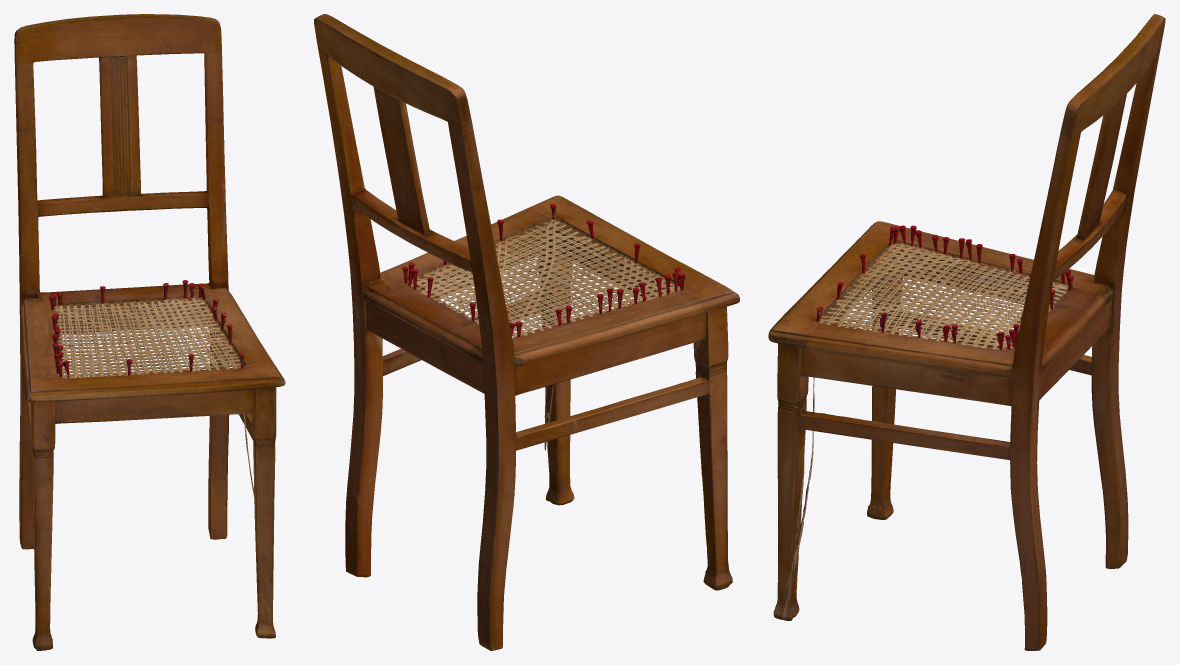
File: 25DD9ABE-C45F-5D49-B339-6F5CD4FFCAC8_2k.glb
3 views of the same model, side by side, from view 1: azimuth 30°, elevation 25°; view 2: azimuth 150°, elevation 25°; view 3: azimuth 270°, elevation 25° (orthographic). The views are drawn at different scales.
Parts seen in each view (by area): view 1: Stuhlgeflecht(wip)_65k_2k; view 2: Stuhlgeflecht(wip)_65k_2k; view 3: Stuhlgeflecht(wip)_65k_2k.
Part boxes in pixels (x1,y1,x2,y2): Stuhlgeflecht(wip)_65k_2k: (14, 14, 285, 650); Stuhlgeflecht(wip)_65k_2k: (314, 14, 739, 650); Stuhlgeflecht(wip)_65k_2k: (768, 14, 1165, 650).
Size of the model in its own units: 0.5363 by 0.9203 by 0.5863.
1 material, 1 textured.
